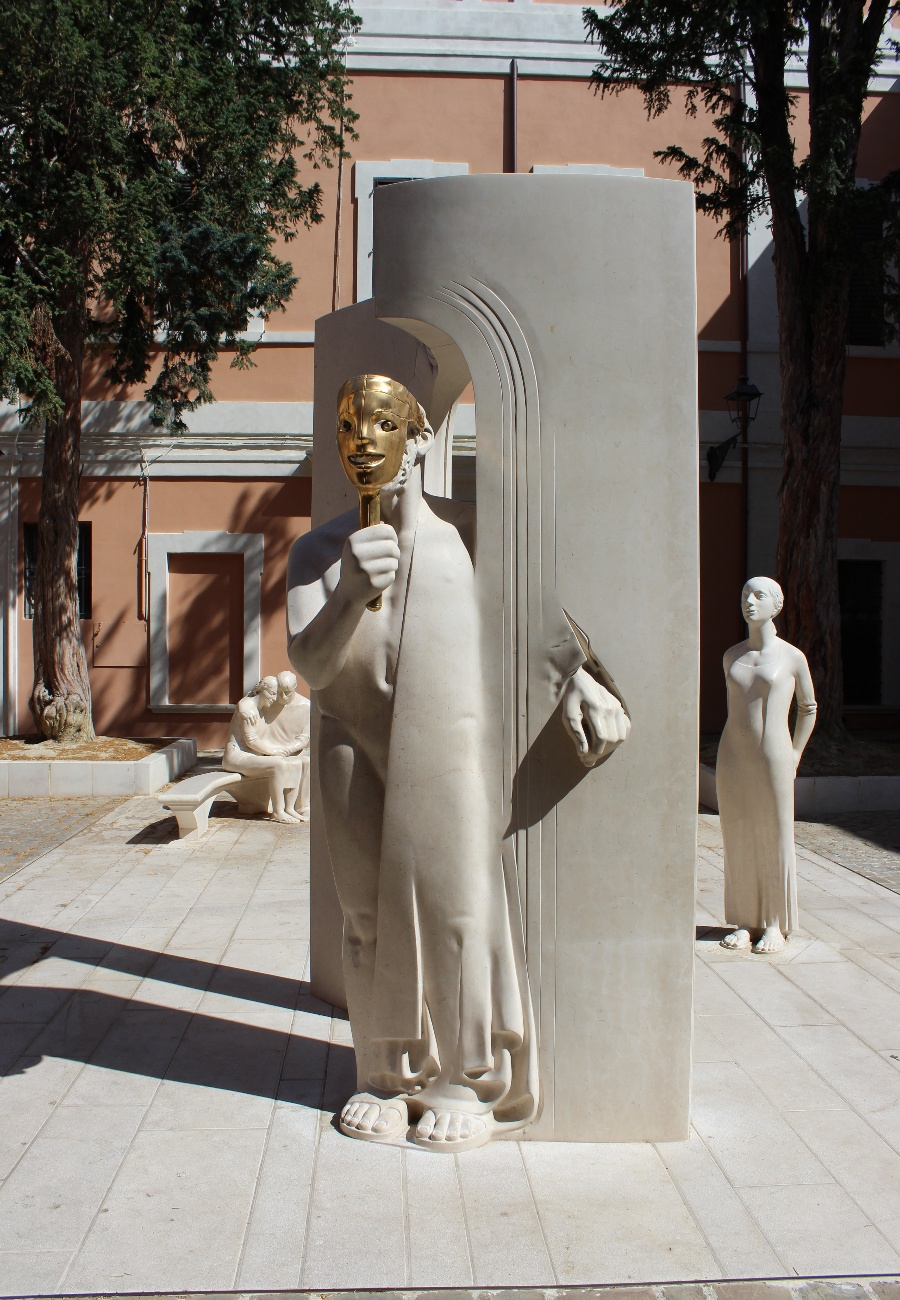Scultura della Memoria: (281, 376, 633, 1154)
